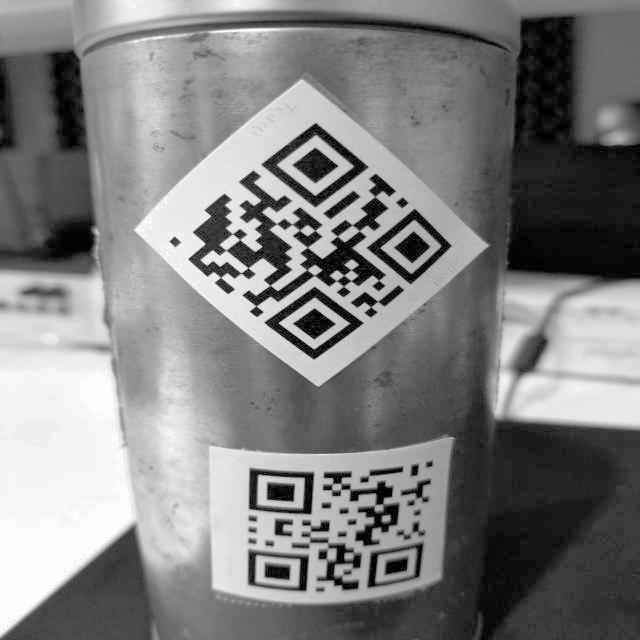qr_code: (154, 102, 462, 364), (224, 441, 442, 596)
